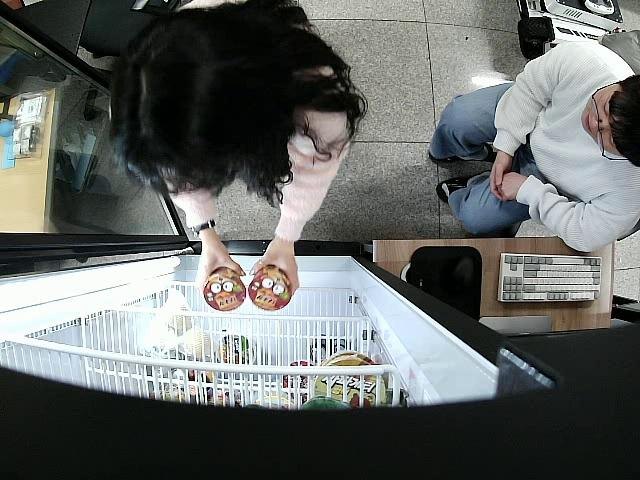00_hand: (195, 241, 246, 296), (251, 245, 300, 297)
06_nuguri_S: (249, 264, 293, 311), (204, 268, 246, 312)
